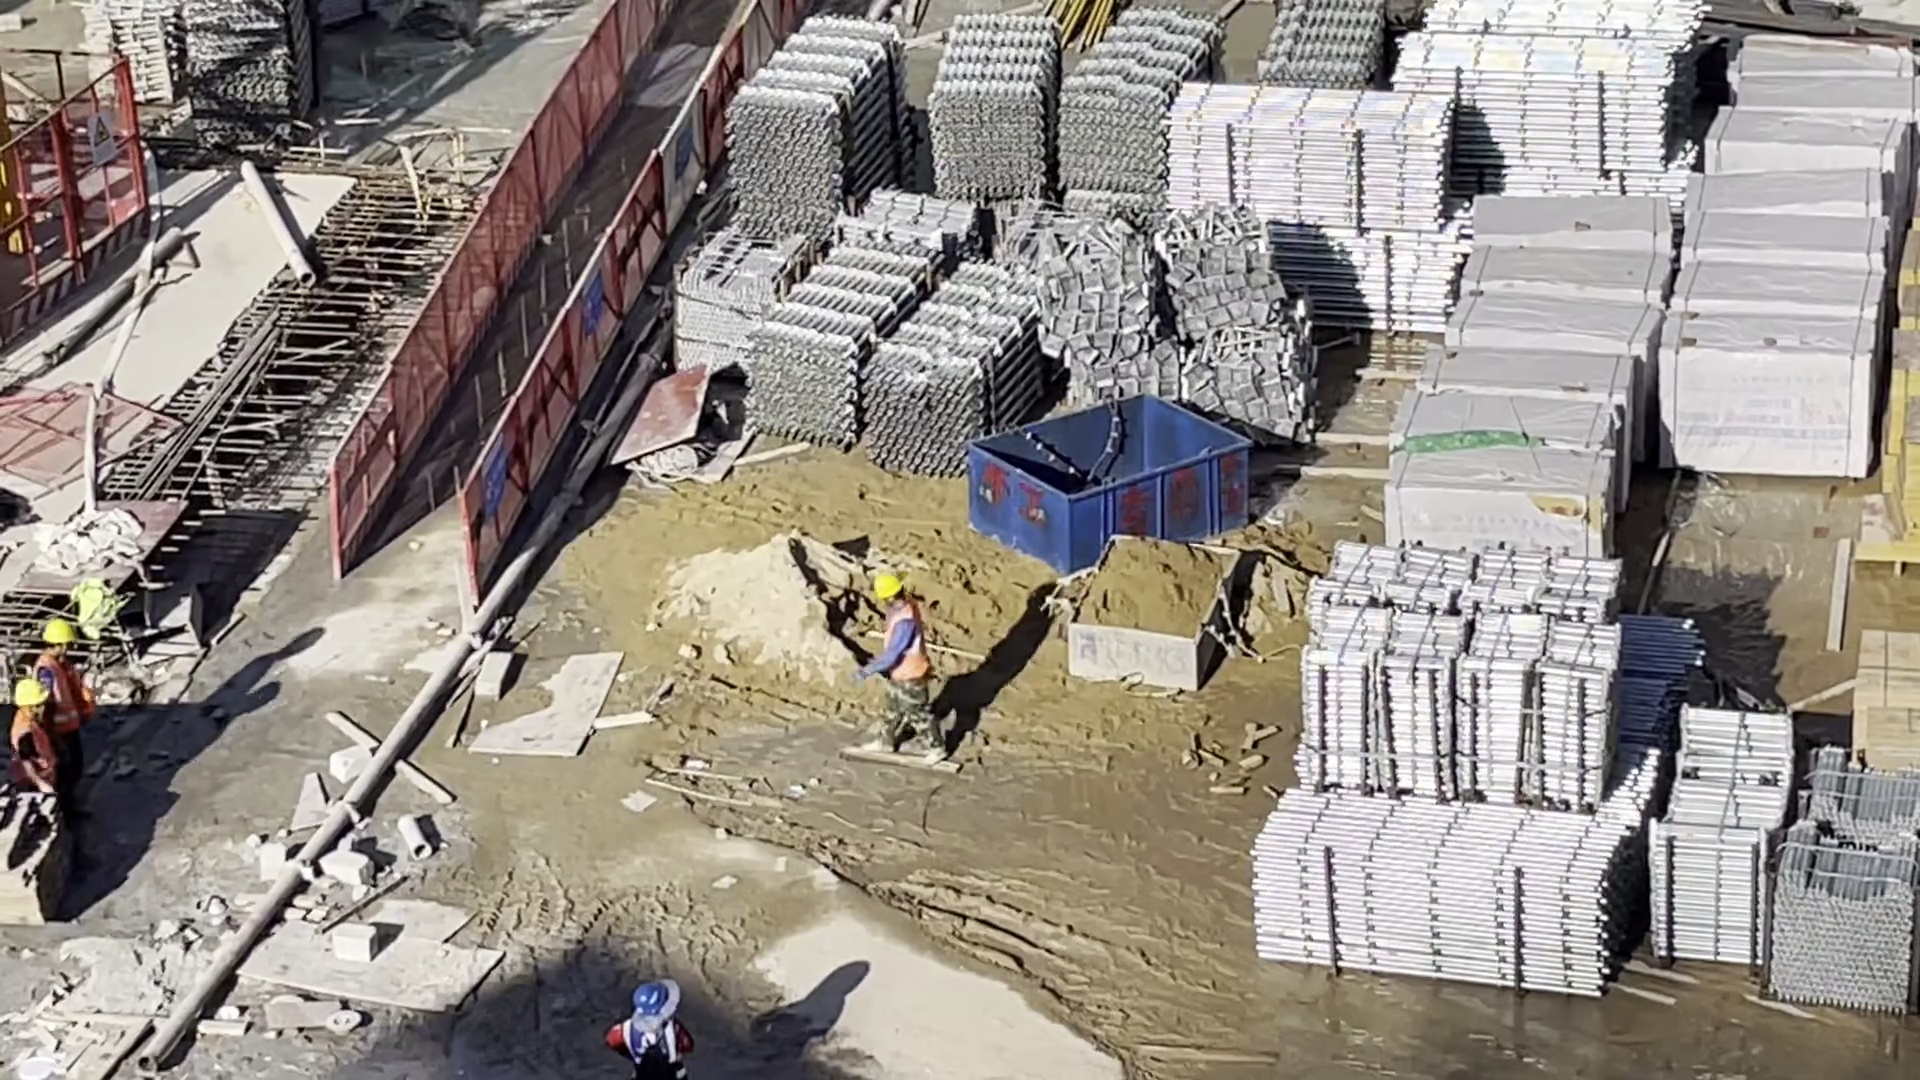board: (1871, 216, 1920, 566), (1852, 631, 1920, 770)
fence: (336, 4, 751, 568)
helmet: (40, 619, 81, 650), (10, 681, 56, 705), (631, 987, 671, 1013), (874, 575, 904, 601)
hopper: (970, 389, 1251, 573), (1067, 533, 1242, 695)
person: (867, 576, 950, 766), (33, 620, 93, 833), (9, 683, 70, 830), (615, 987, 690, 1080)
scaffold: (1304, 546, 1620, 806), (1255, 779, 1633, 996), (1171, 85, 1456, 324), (758, 245, 1040, 481), (936, 8, 1221, 210), (1396, 1, 1700, 177), (724, 18, 905, 231), (1648, 706, 1777, 976), (1778, 758, 1906, 1026), (189, 1, 313, 129), (1258, 3, 1402, 91), (87, 1, 179, 101)
slogan: (479, 439, 506, 511), (582, 265, 604, 337)
vest: (44, 656, 89, 724), (11, 714, 47, 779), (892, 610, 924, 684), (625, 1022, 670, 1058)
